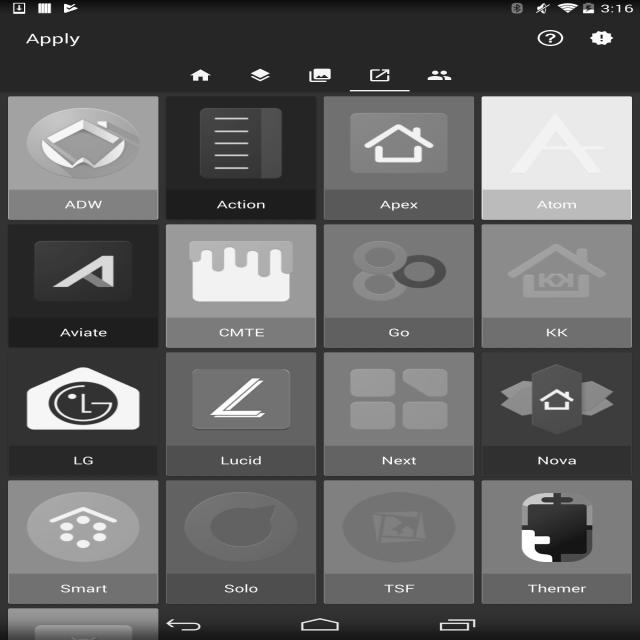ImageView: (9, 97, 157, 190), (167, 97, 315, 190), (325, 97, 473, 190), (483, 97, 631, 190), (9, 225, 157, 318), (167, 225, 315, 318), (325, 225, 473, 318), (483, 225, 631, 318), (9, 353, 157, 446), (167, 353, 315, 446), (325, 353, 473, 446), (483, 353, 631, 446), (9, 481, 157, 574), (167, 481, 315, 574), (325, 481, 473, 574), (483, 481, 631, 574), (9, 609, 157, 640), (307, 68, 333, 84), (188, 68, 213, 84), (248, 68, 273, 84), (367, 68, 392, 84), (427, 68, 452, 84)
TextView: (9, 190, 157, 219), (167, 190, 315, 219), (325, 190, 473, 219), (483, 190, 631, 219), (9, 318, 157, 347), (167, 318, 315, 347), (325, 318, 473, 347), (483, 318, 631, 347), (9, 446, 157, 475), (167, 446, 315, 475), (325, 446, 473, 475), (483, 446, 631, 475), (9, 574, 157, 603), (167, 574, 315, 603), (325, 574, 473, 603), (483, 574, 631, 603), (525, 22, 576, 54), (576, 22, 627, 54), (26, 29, 80, 47)
